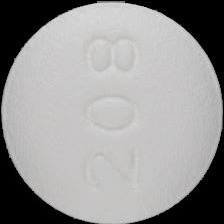35356-718: (0, 0, 224, 224)
